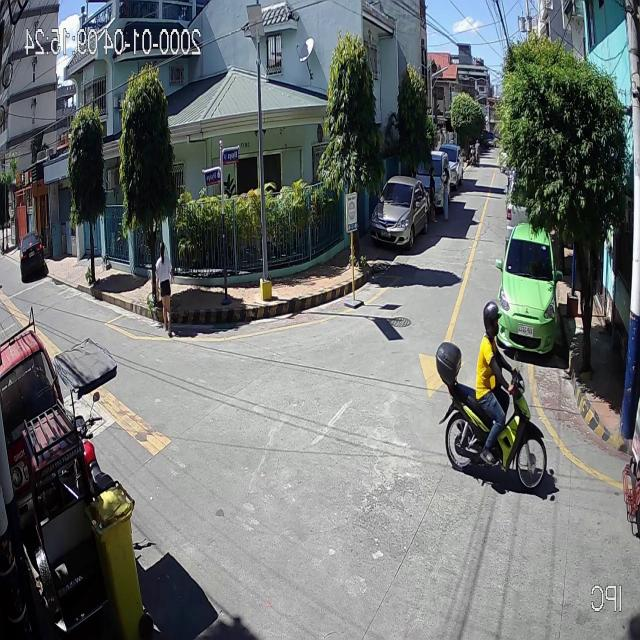standing: (439, 166, 452, 221), (427, 166, 438, 223), (474, 139, 481, 165)
walking: (155, 239, 173, 338)
